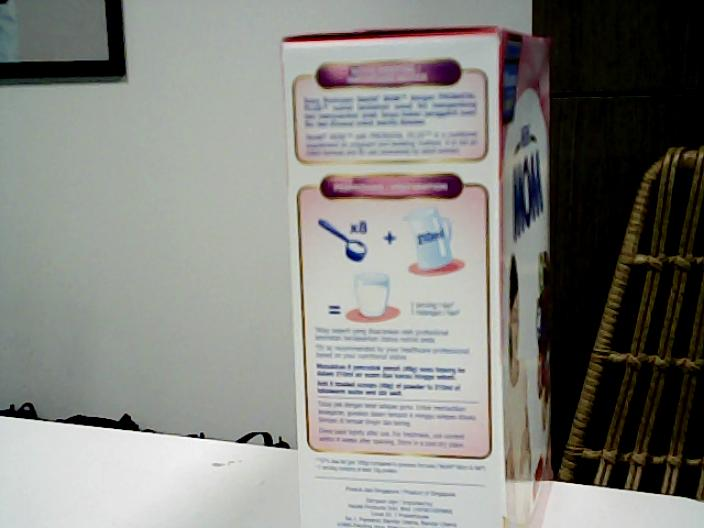MaternalMilkPowder_600-699g_Halal_NonHealthy: (297, 43, 544, 525)
